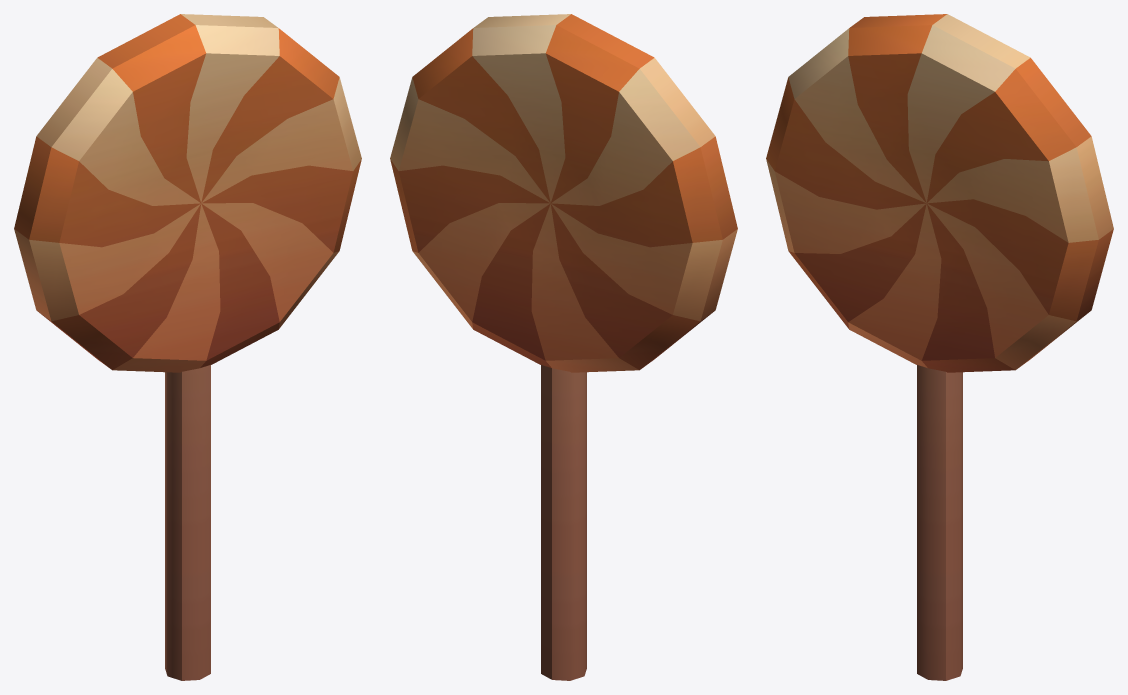
The model's file is lollipop_brown.glb.
The picture shows the model from 3 angles, left to right: view 1: azimuth 30°, elevation 25°; view 2: azimuth 150°, elevation 25°; view 3: azimuth 330°, elevation 25°; orthographic projection.
Parts seen in each view (by area): view 1: lollipop_brown; view 2: lollipop_brown; view 3: lollipop_brown.
Part boxes in pixels (x1,y1,x2,y2): lollipop_brown: (14,14,361,680); lollipop_brown: (390,14,737,680); lollipop_brown: (766,14,1113,680).
Size of the model in its own units: 0.65 by 1.23 by 0.1239.
Materials: 1 (1 with a texture image).
